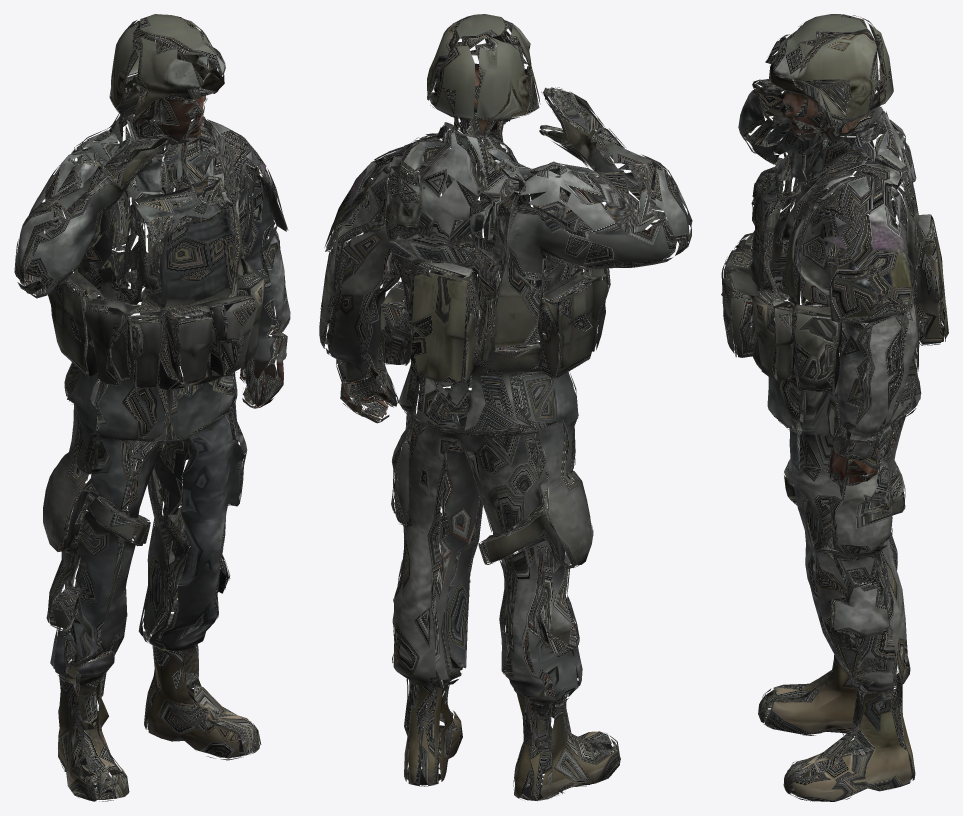
Rendered from soldier.glb.
The picture shows the model from 3 angles, left to right: view 1: azimuth 30°, elevation 25°; view 2: azimuth 150°, elevation 25°; view 3: azimuth 270°, elevation 25°; orthographic projection.
Parts seen in each view (by area): view 1: soldier; view 2: soldier; view 3: soldier.
Boxes of the visible parts, box(x1,y1,x2,y2) form: soldier: box(14, 14, 290, 801); soldier: box(319, 14, 692, 801); soldier: box(721, 14, 948, 801).
Size of the model in its own units: 0.4485 by 1 by 0.2777.
Materials: 1 (1 with a texture image).
